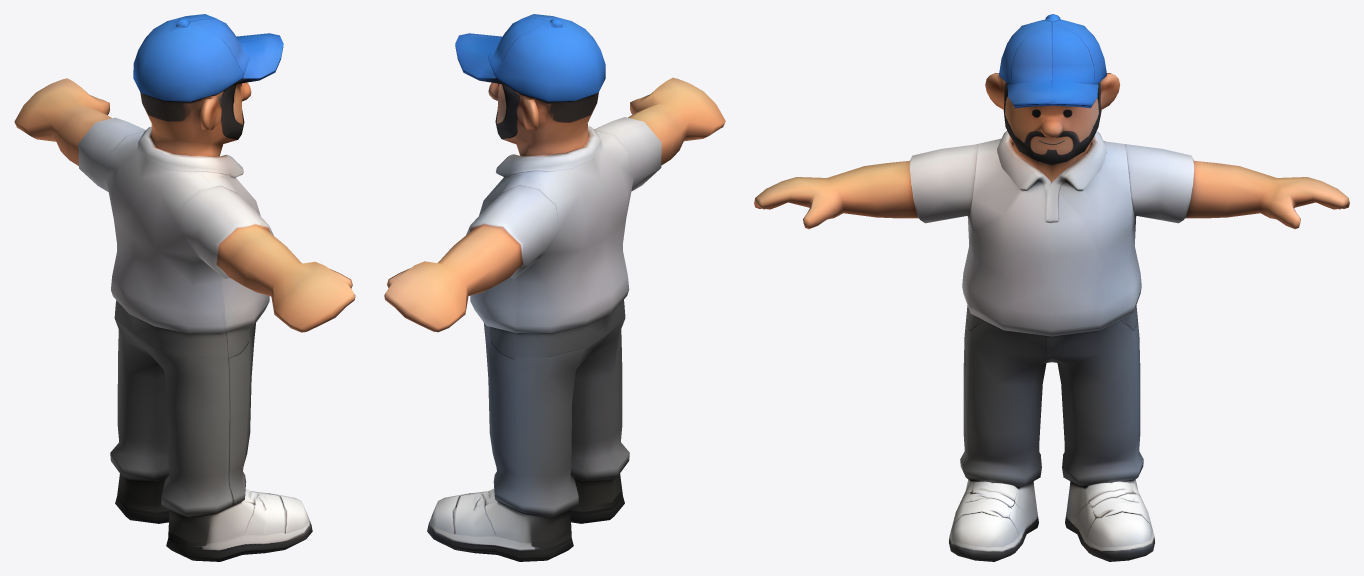
The picture shows the model from 3 angles, left to right: view 1: azimuth 30°, elevation 25°; view 2: azimuth 150°, elevation 25°; view 3: azimuth 270°, elevation 25°; orthographic projection.
Parts seen in each view (by area): view 1: tripo_node_a5293f54-d9e7-4616-95bb-a6f3a6917f75; view 2: tripo_node_a5293f54-d9e7-4616-95bb-a6f3a6917f75; view 3: tripo_node_a5293f54-d9e7-4616-95bb-a6f3a6917f75.
Part boxes in pixels (<box>): tripo_node_a5293f54-d9e7-4616-95bb-a6f3a6917f75: <box>14,14,355,561</box>; tripo_node_a5293f54-d9e7-4616-95bb-a6f3a6917f75: <box>384,14,725,561</box>; tripo_node_a5293f54-d9e7-4616-95bb-a6f3a6917f75: <box>754,14,1349,561</box>.
Size of the model in its own units: 0.2983 by 0.9438 by 0.9995.
1 material, 1 textured.
